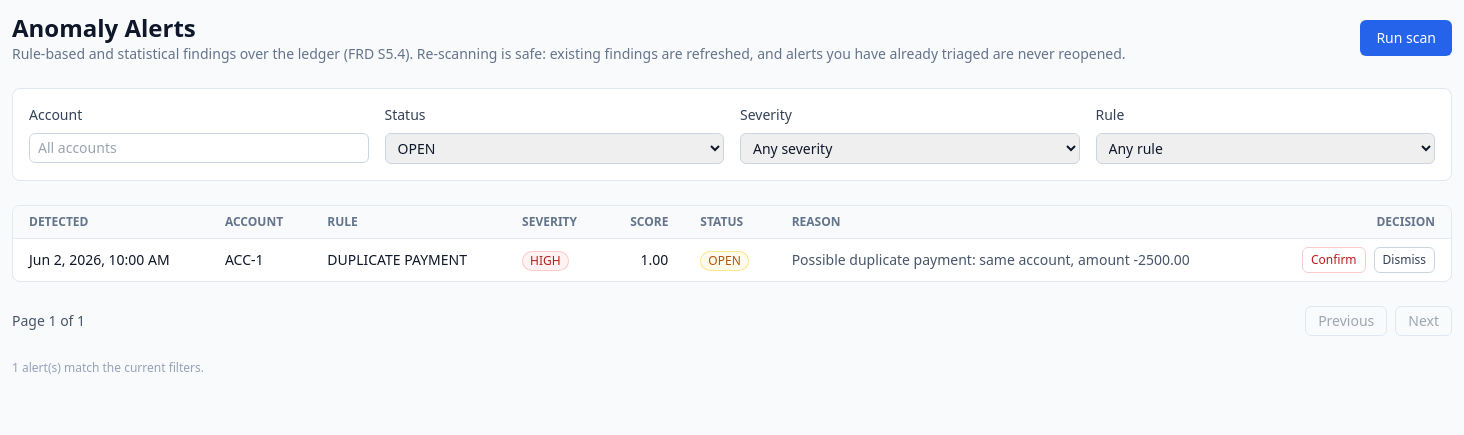
Scenario: FraudAlerts page › surfaces a scan failure
expect the text "Possible duplicate payment: same account, amount -2500.00" is shown: met, box [776,238,1264,281]
Click the button "Run scan" at (1406, 38), box [1360,20,1452,56]
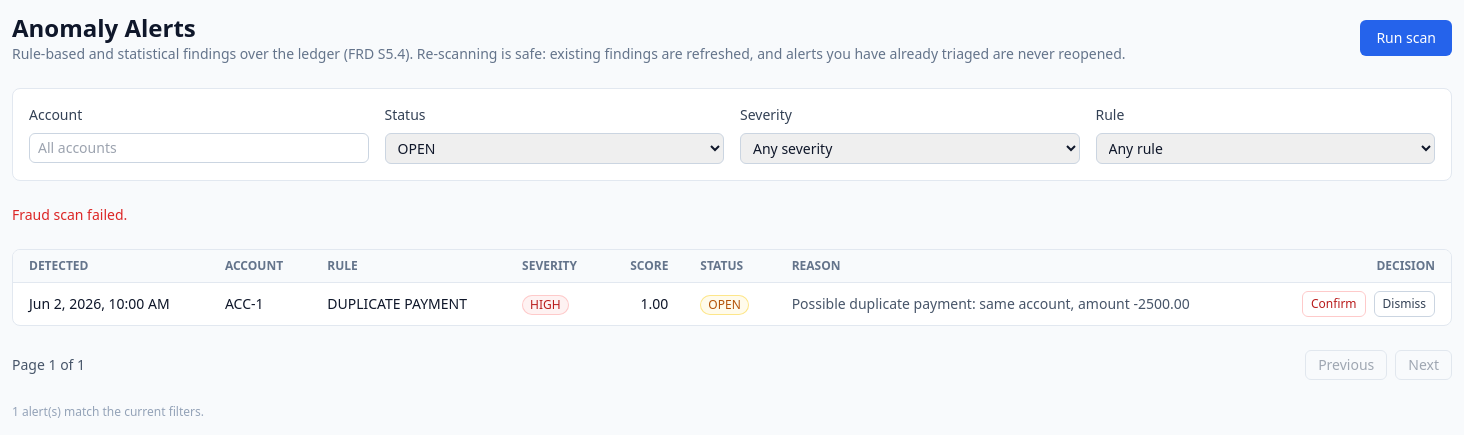
expect the message shows "Fraud scan failed": met, box [12,205,127,224]
